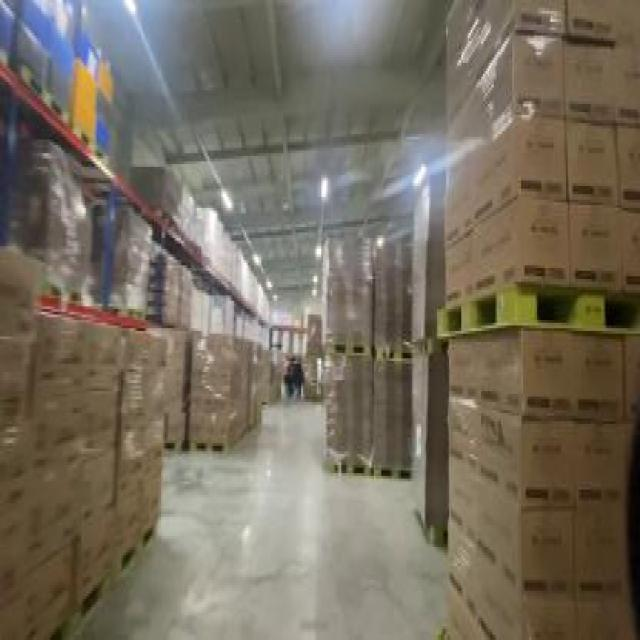box: (442, 11, 638, 637), (3, 260, 165, 637), (323, 241, 411, 478), (408, 183, 464, 544), (15, 134, 94, 304), (12, 0, 83, 131), (190, 331, 264, 448), (94, 208, 154, 323), (72, 30, 114, 175), (129, 162, 197, 244), (146, 328, 186, 449), (149, 246, 194, 331), (306, 309, 326, 402)
white_roll: (268, 331, 308, 355), (270, 309, 302, 326)
